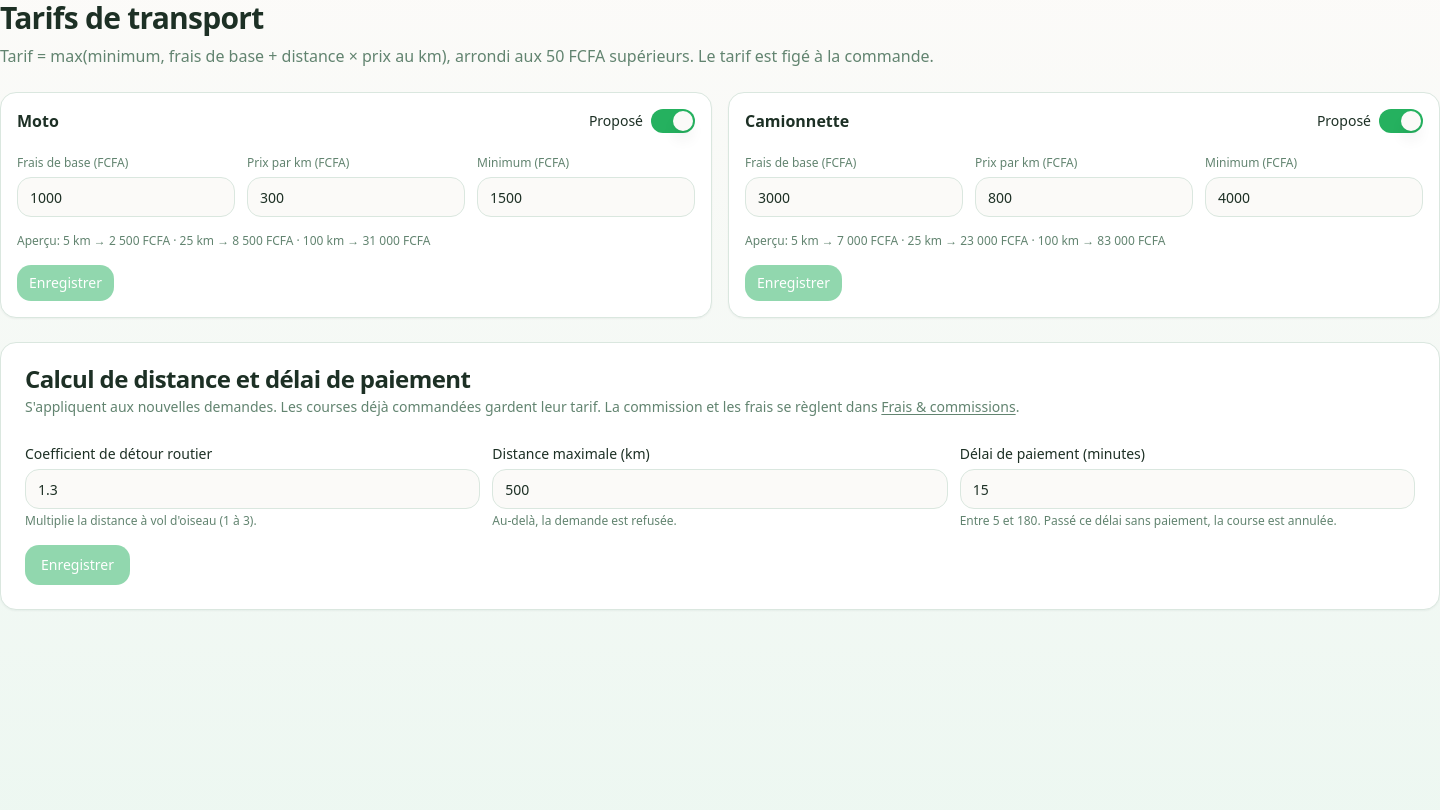
Test: AdminTransportPricingPage › shows the server's error when a save is rejected
Expected: the element with test id "tariff-moto" is shown, [0, 92, 712, 318]
Step 1. Replace the text in the field with id "moto-base_fee" with "2000" → (126, 197), box [17, 177, 235, 217]
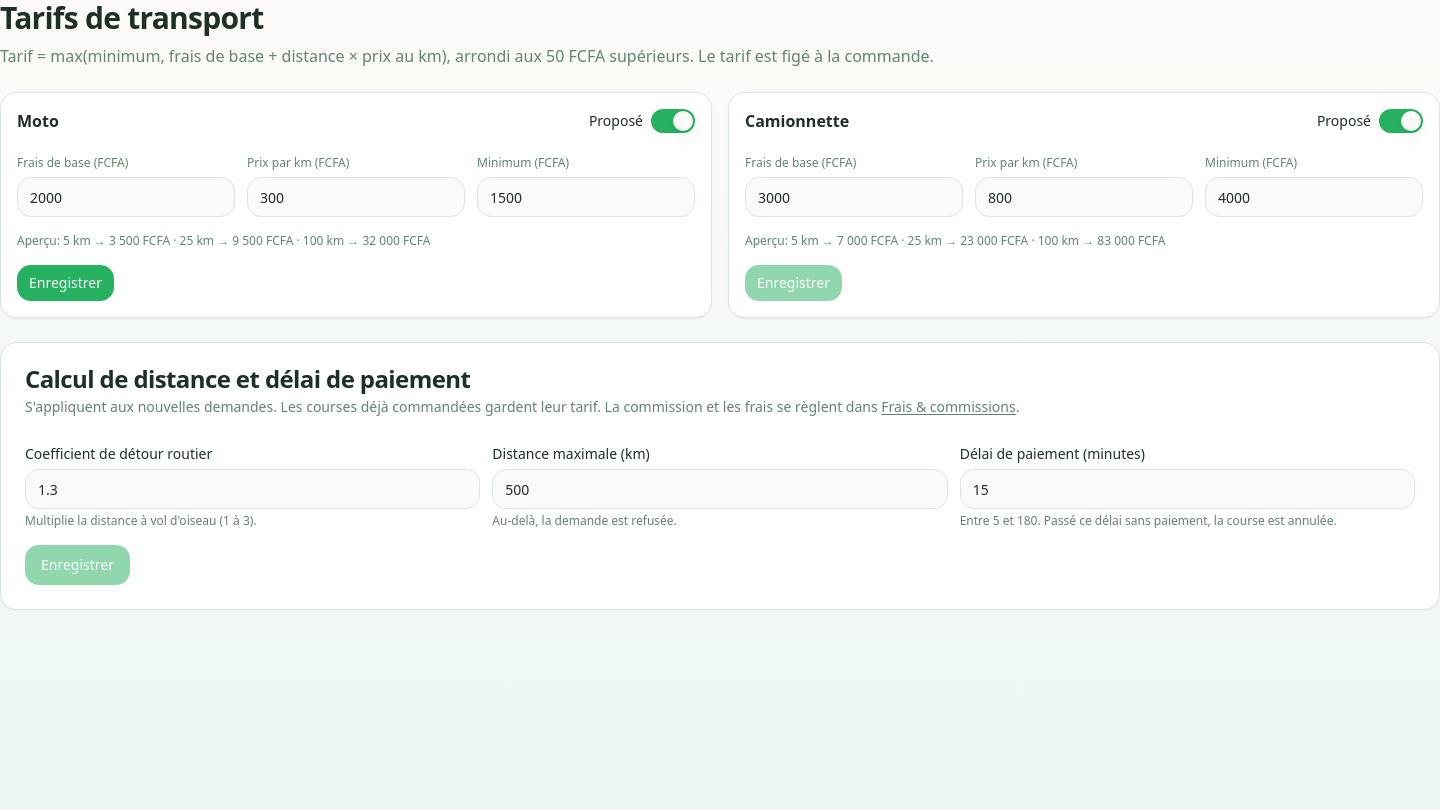
Step 2. Click the button "Enregistrer" below "Moto" → click(66, 283), box [17, 265, 114, 301]
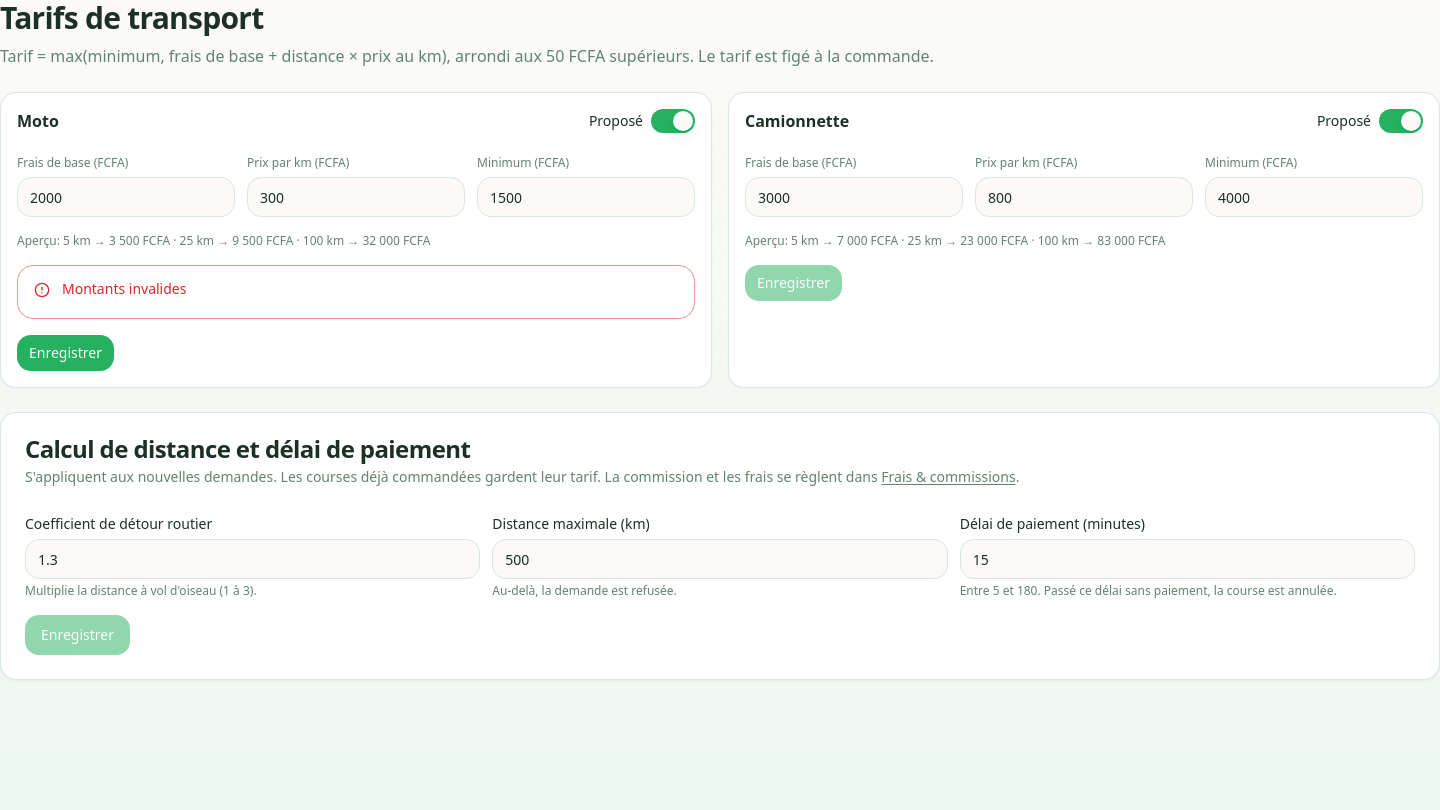
Now the text "Montants invalides" is shown, box [62, 279, 186, 298]
